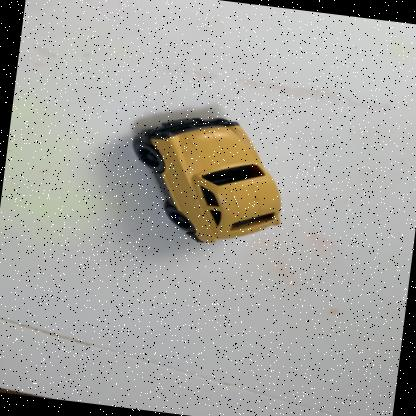yellow mini cooper: (120, 106, 296, 252)
